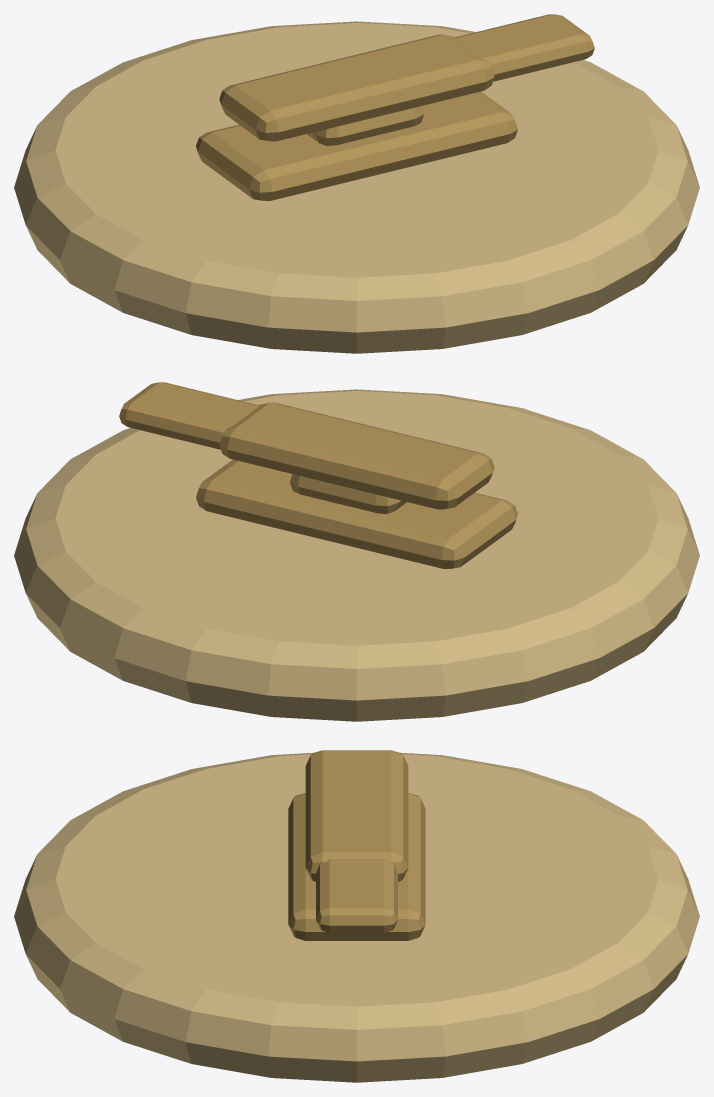
File: hods_anvil_token.glb
3 views of the same model, one above another, from view 1: azimuth 30°, elevation 25°; view 2: azimuth 150°, elevation 25°; view 3: azimuth 270°, elevation 25° (orthographic).
Parts seen in each view (by area): view 1: Disc, AvTop, AvBase, AvHorn, AvNeck; view 2: Disc, AvTop, AvBase, AvHorn, AvNeck; view 3: Disc, AvTop, AvBase, AvHorn.
Part boxes in pixels (x1,y1,x2,y2): Disc: (14, 21, 699, 353); AvTop: (219, 34, 494, 141); AvBase: (196, 91, 517, 200); AvHorn: (454, 14, 594, 81); AvNeck: (307, 106, 423, 145); Disc: (14, 389, 699, 721); AvTop: (219, 402, 494, 509); AvBase: (196, 459, 517, 568); AvHorn: (119, 382, 259, 449); AvNeck: (290, 474, 406, 513); Disc: (14, 752, 699, 1082); AvTop: (305, 750, 408, 881); AvBase: (288, 793, 425, 940); AvHorn: (316, 859, 397, 932).
Size of the model in its own units: 0.1 by 0.0245 by 0.1.
